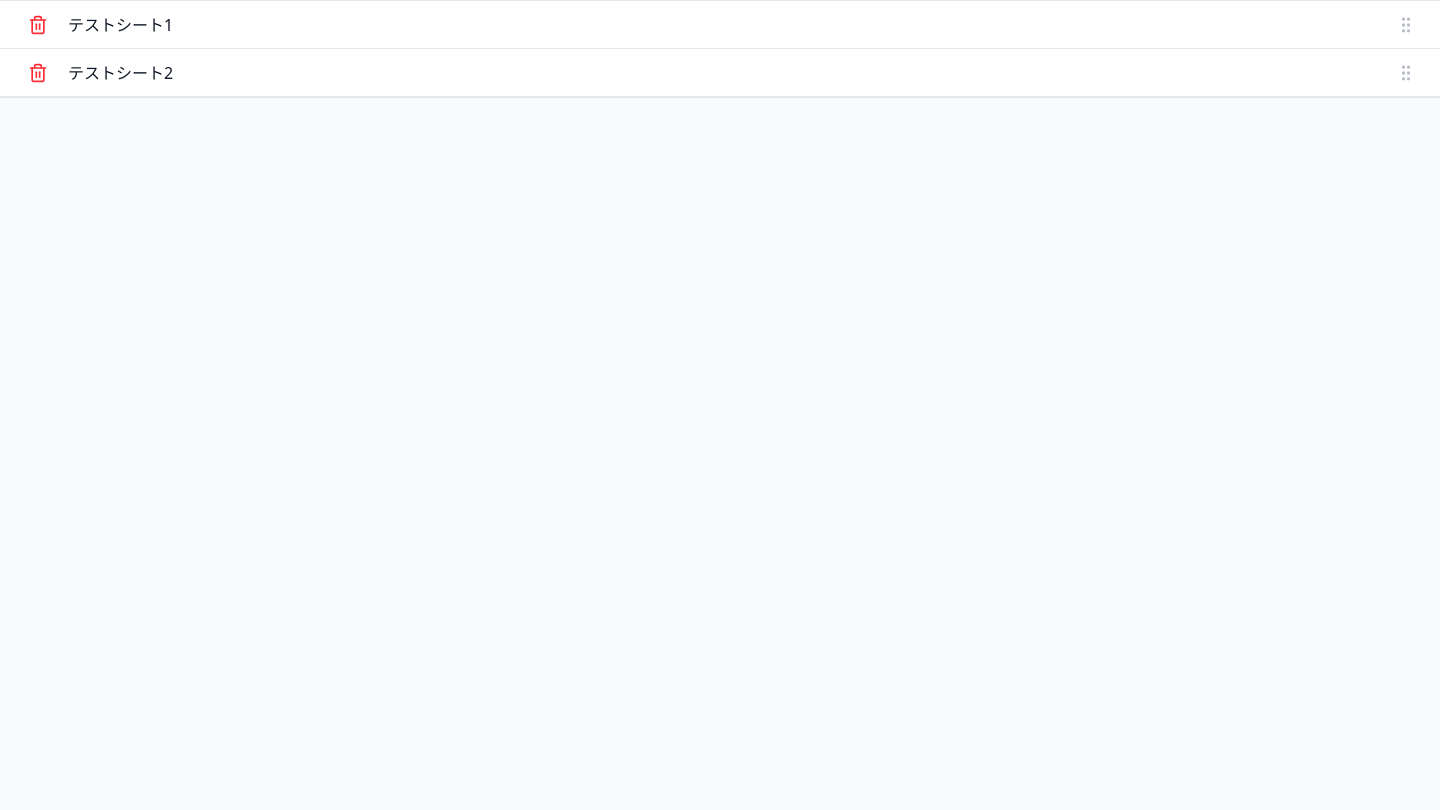
Test: SheetList › AlertDialog確認機能 › AlertDialogのキャンセルボタンで削除がキャンセルされる
Click the 1st button with test id "delete-button" at (38, 24), box [16, 2, 60, 46]
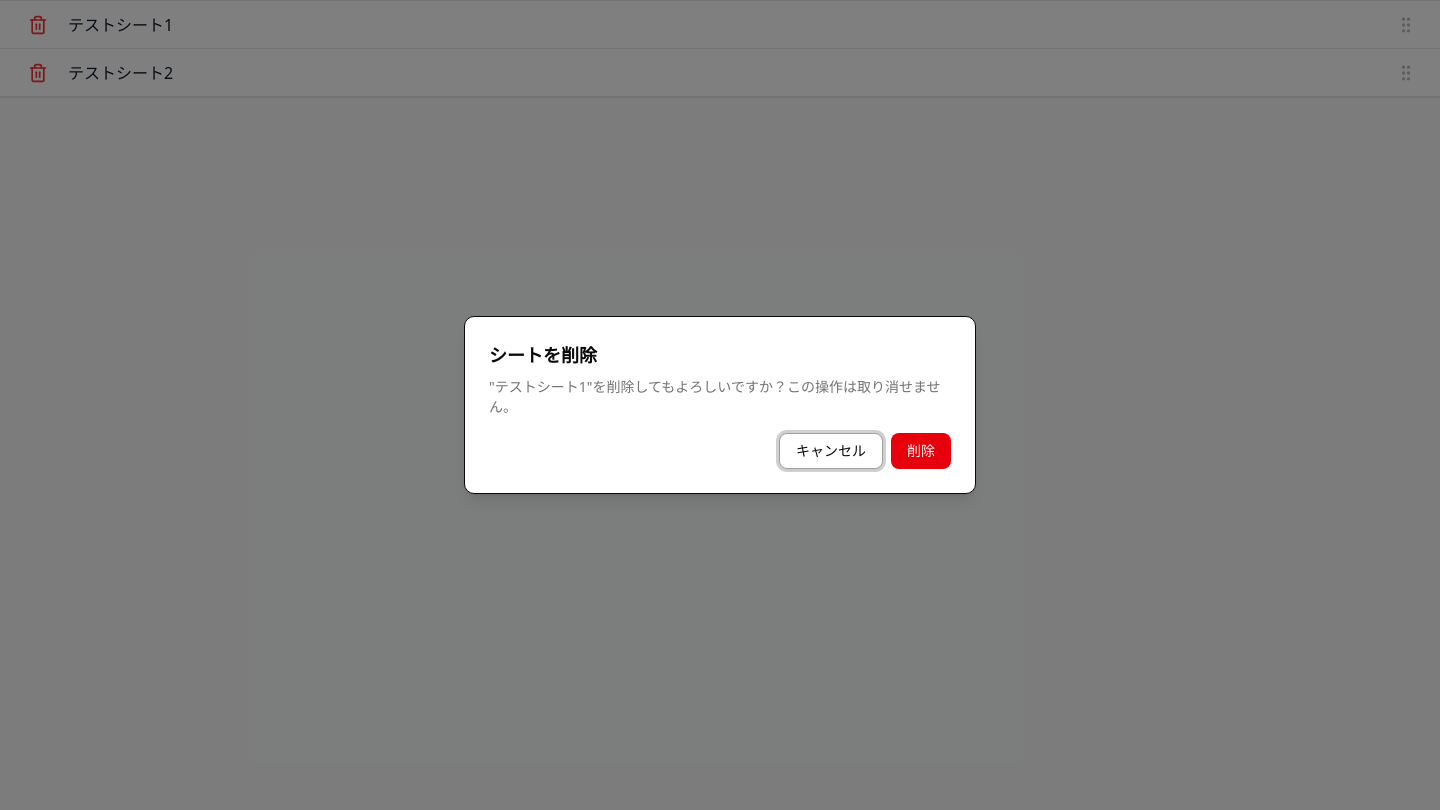
// キャンセルボタンをクリック
Click the button "キャンセル" at (831, 451), box [779, 433, 883, 469]
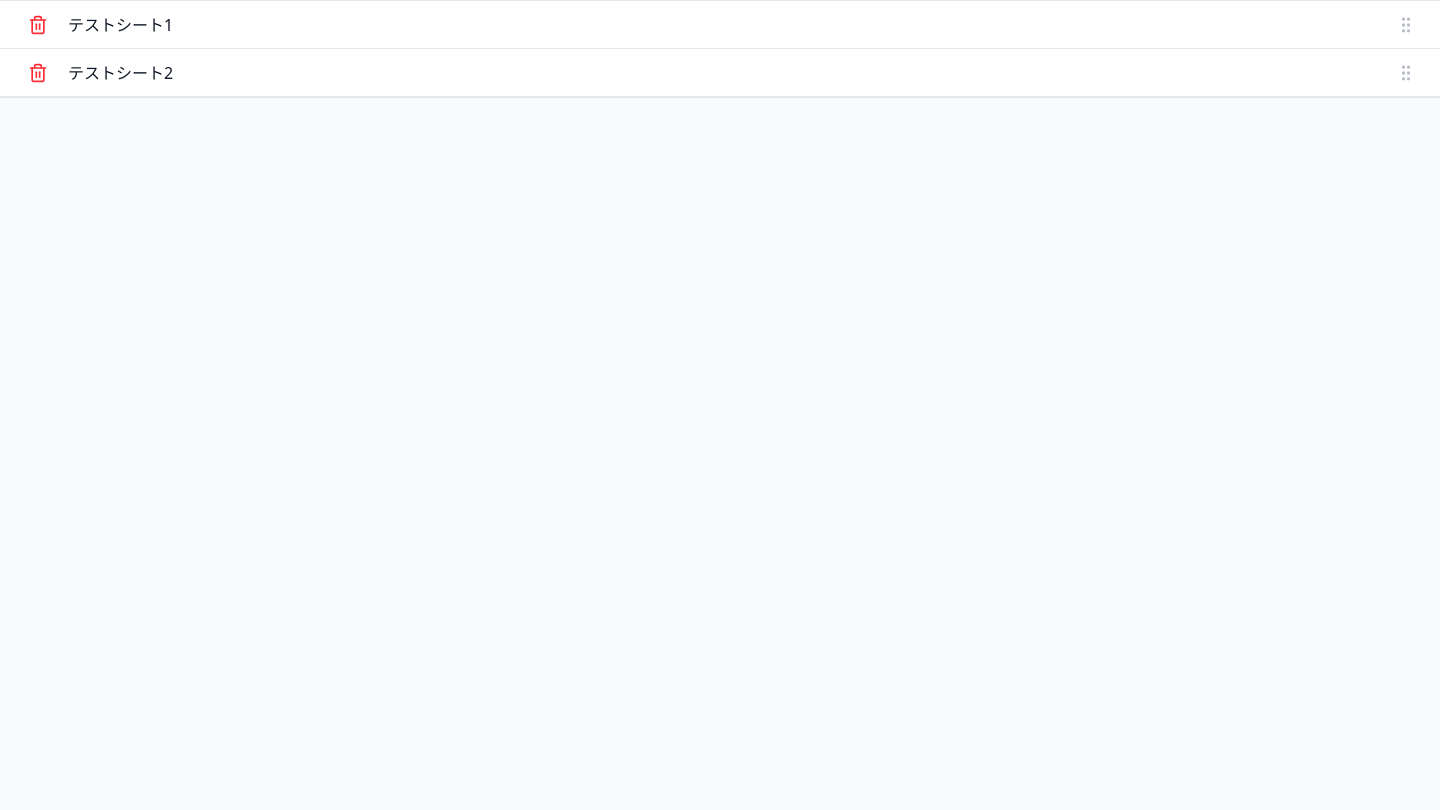
Result: the dialog is gone
